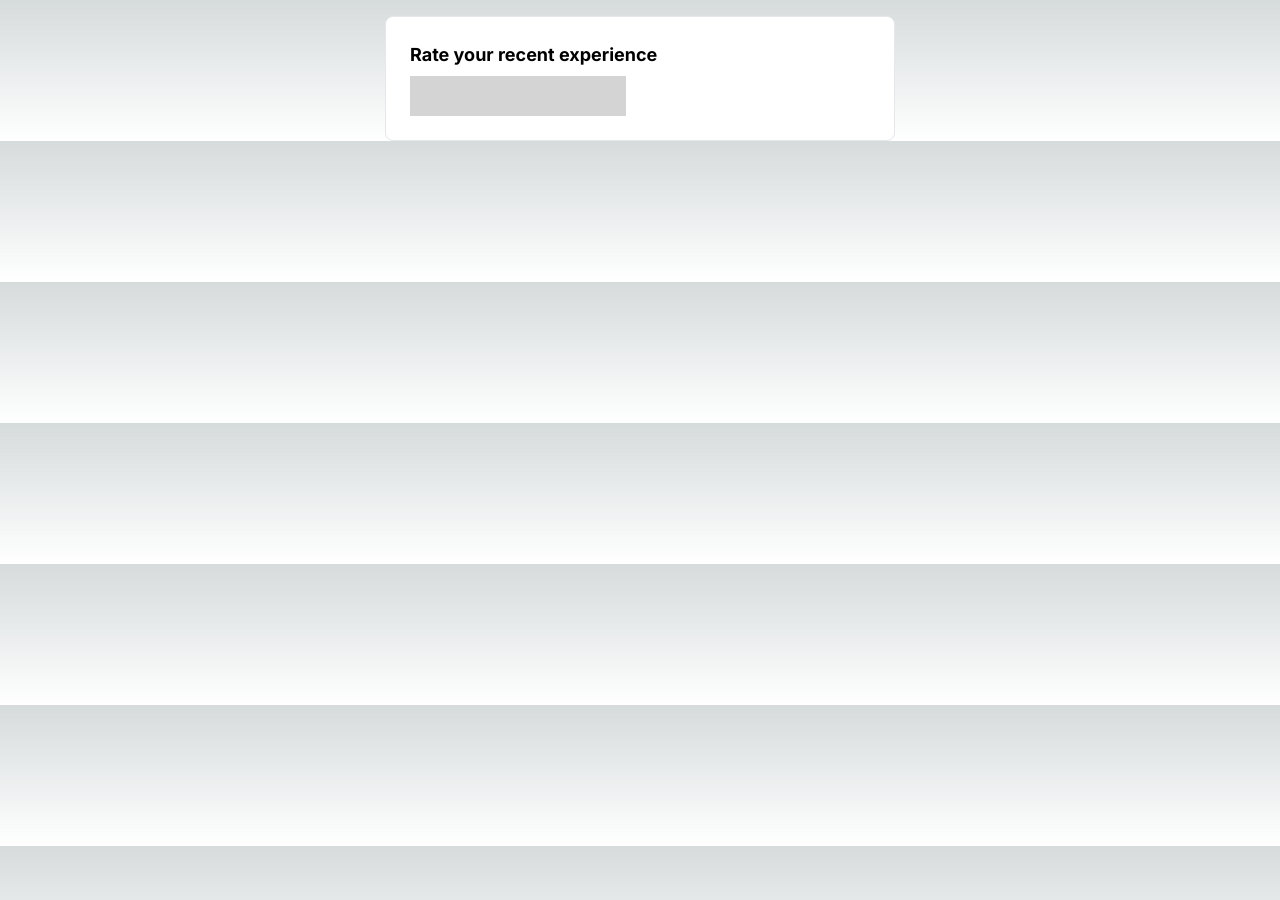
Test case: Form › should show errors if fields are not filled
Step 1. Click the radio button named "2 stars: poor" → {"x": 474, "y": 96}, box [453,76,496,116]
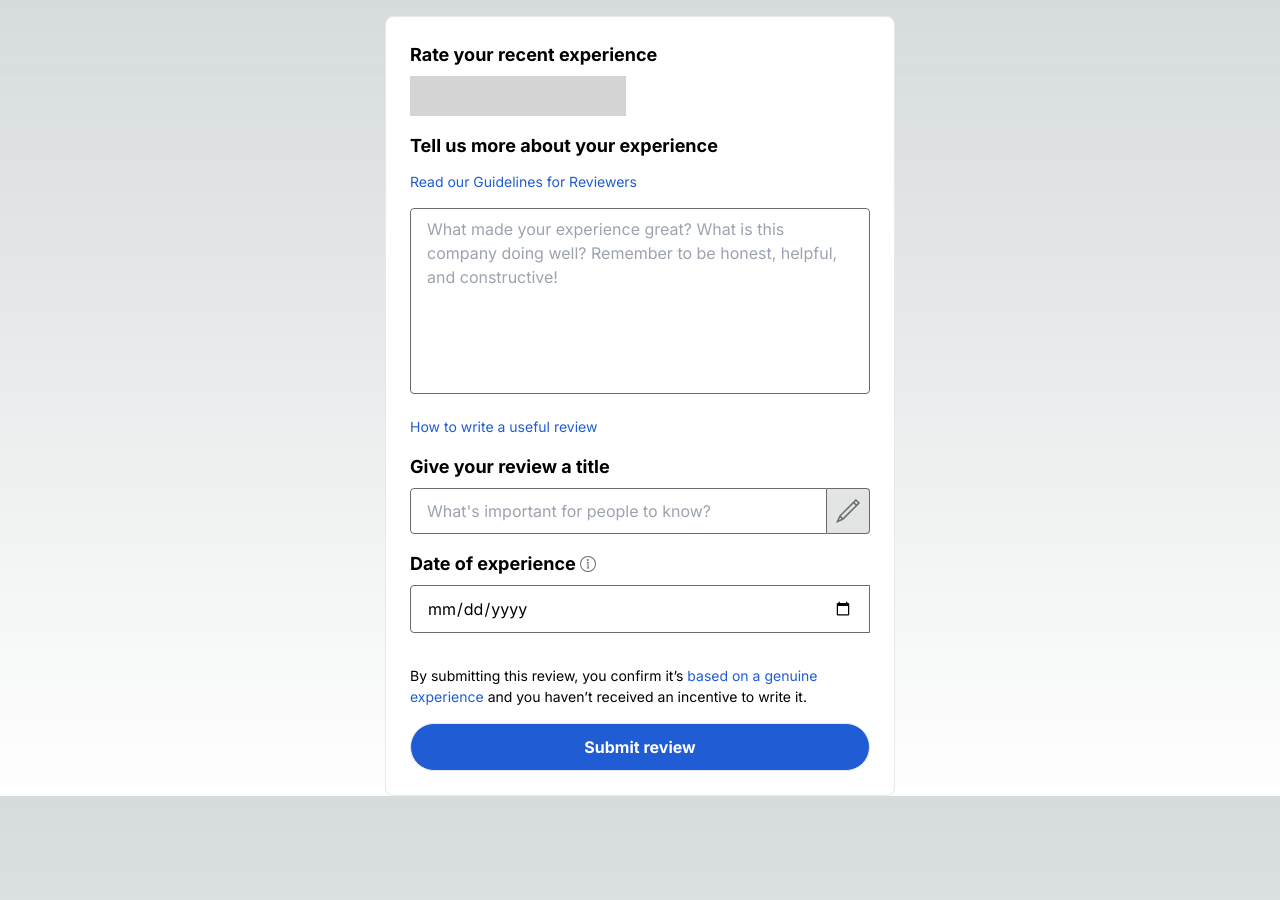
Step 2. Submit the form from the button "Submit review", box [410,723,870,771]
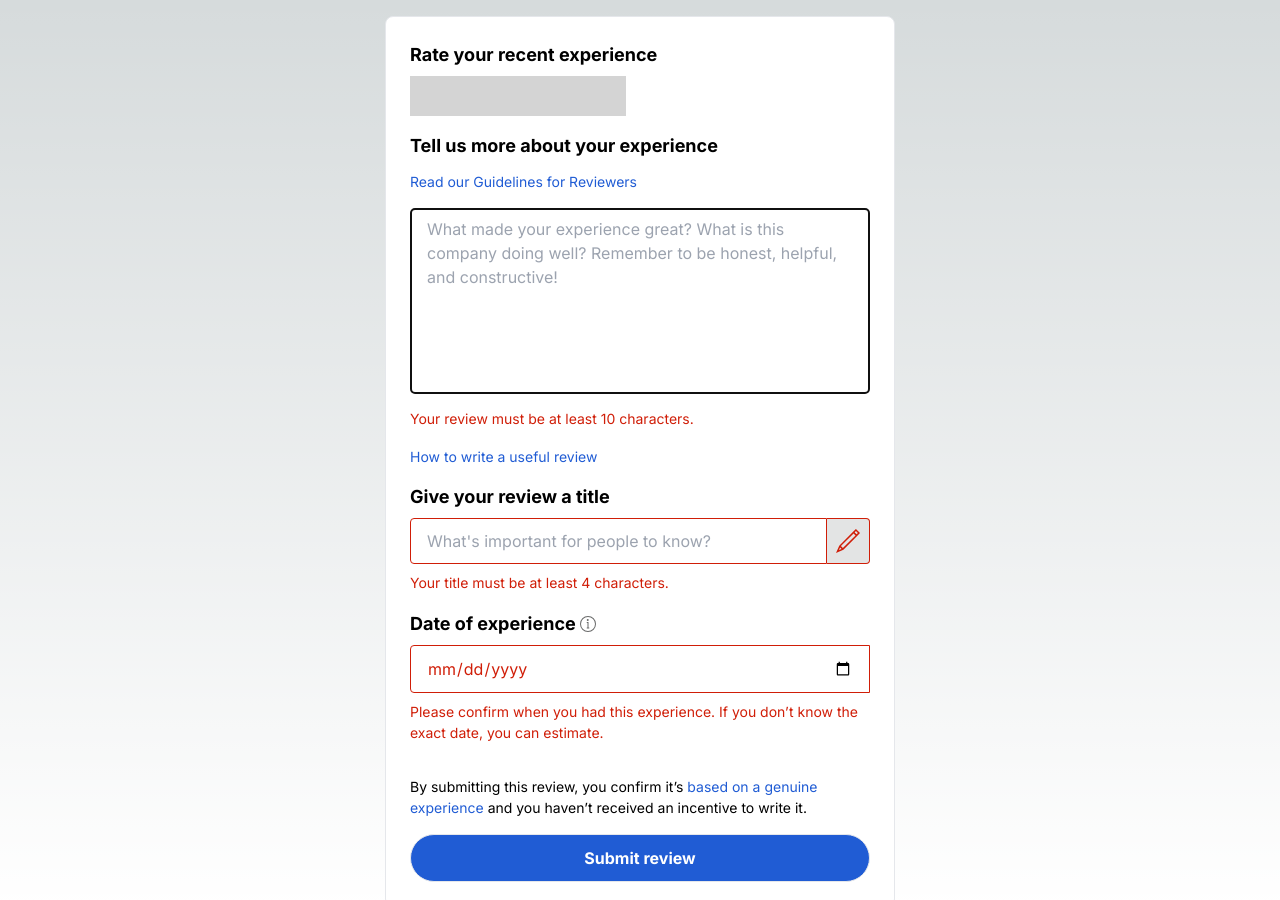
Result: the text "Your review must be at least 10 characters." is shown at [410,408,694,429]
Result: the text "Your title must be at least 4 characters." is shown at [410,572,669,593]
Result: the text "Please confirm when you had this experience. If you don’t know the exact date, you can estimate." is shown at [410,703,858,741]
